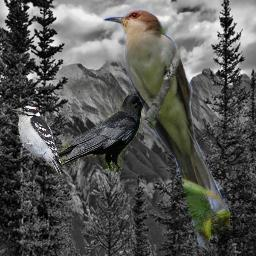Crow: (41, 91, 157, 173)
Cuckoo: (103, 8, 230, 249)
Woodpecker: (10, 105, 63, 177)
